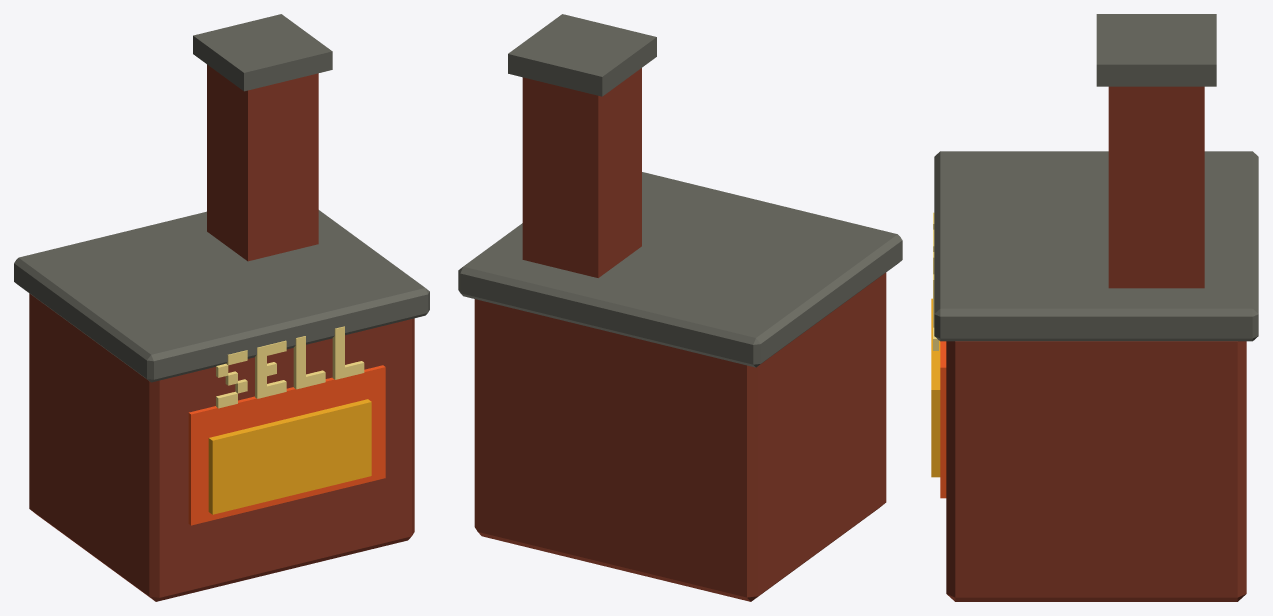
Rendered from Furnace.fbx.
The picture shows the model from 3 angles, left to right: view 1: azimuth 30°, elevation 25°; view 2: azimuth 150°, elevation 25°; view 3: azimuth 270°, elevation 25°; orthographic projection. The views are drawn at different scales.
Parts seen in each view (by area): view 1: Furnace; view 2: Furnace; view 3: Furnace.
Part boxes in pixels (x1,y1,x2,y2): Furnace: (14,14,429,601); Furnace: (458,14,902,601); Furnace: (931,14,1258,601).
Bounding box in the file's own units: 6.4 × 9.7 × 5.45.
Materials: 1 (1 with a texture image).
